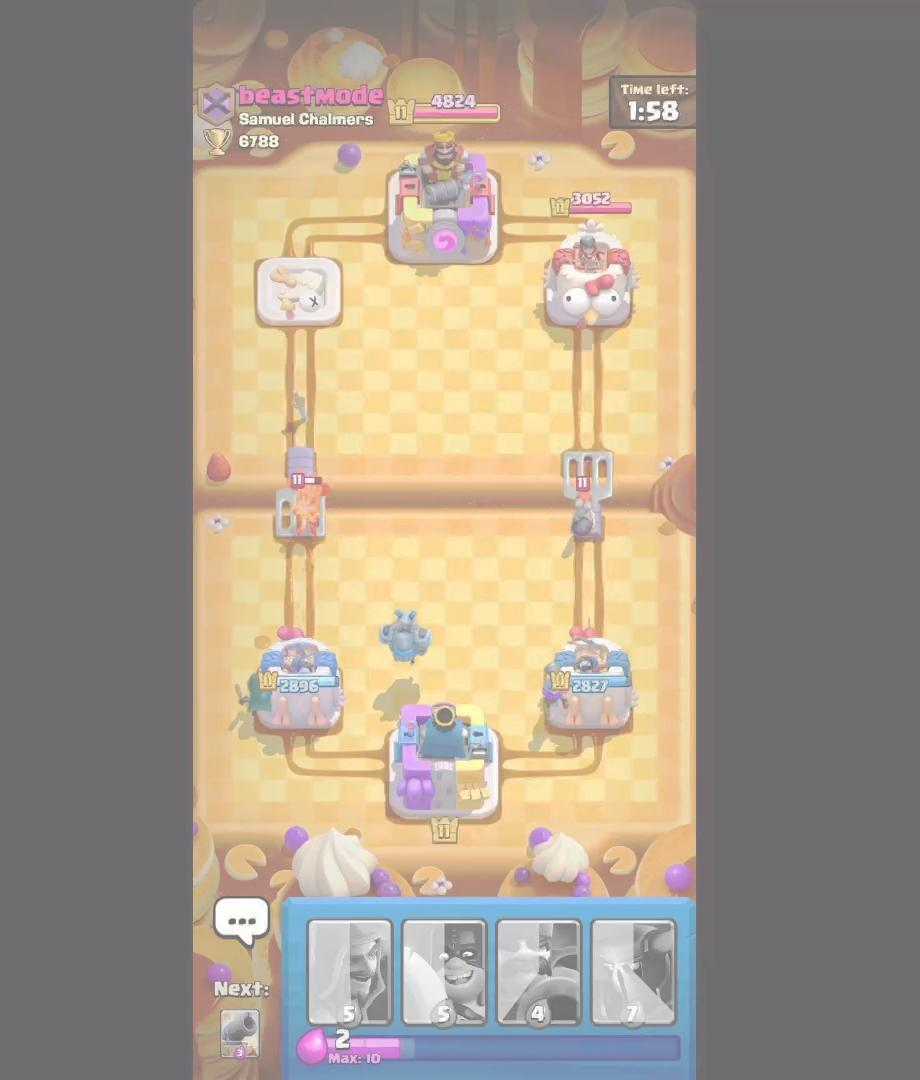Dart Goblin: (292, 471, 330, 539)
